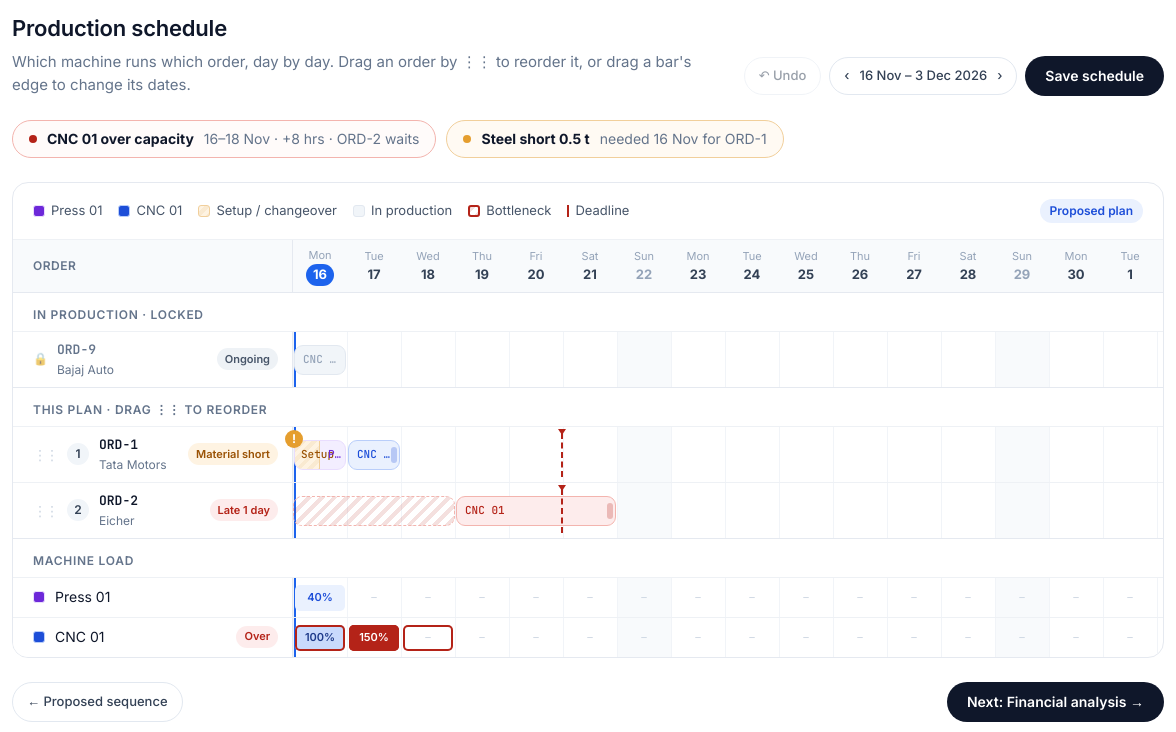
schedule: save is a checkpoint
Step 1. Click the button "Save schedule" → [1095, 76], box [1025, 56, 1164, 96]
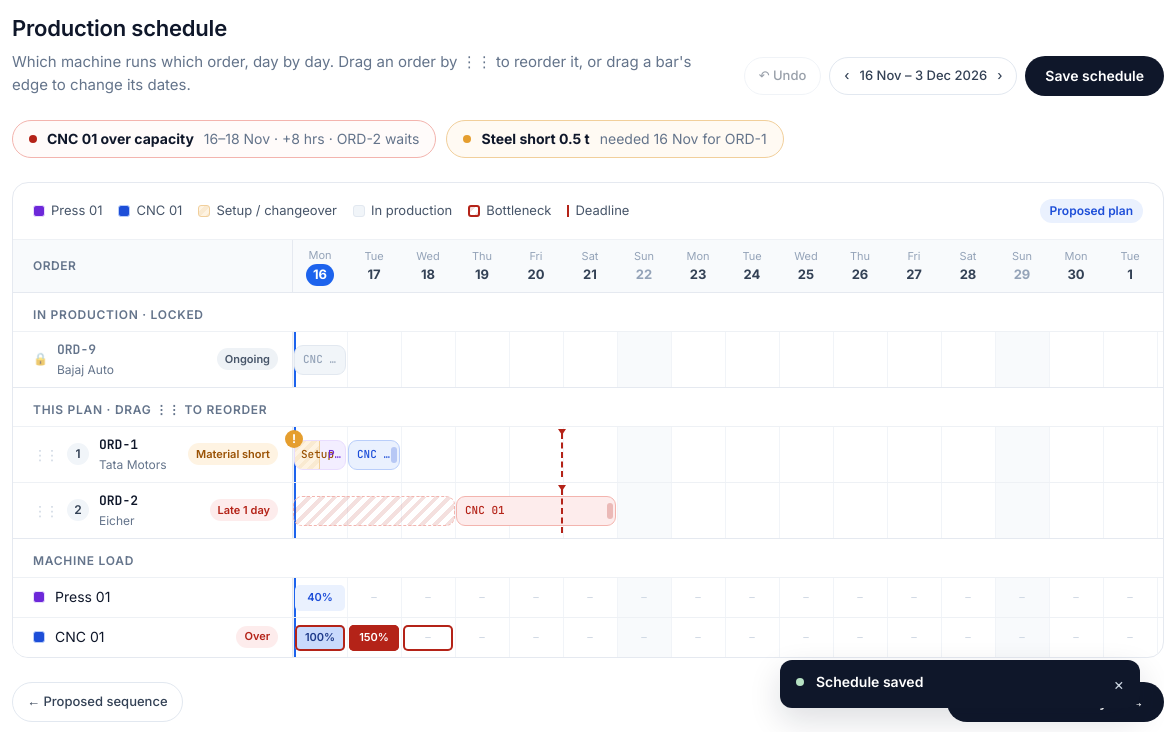
Expected: the text "Schedule saved" is shown, [816, 673, 923, 690]
